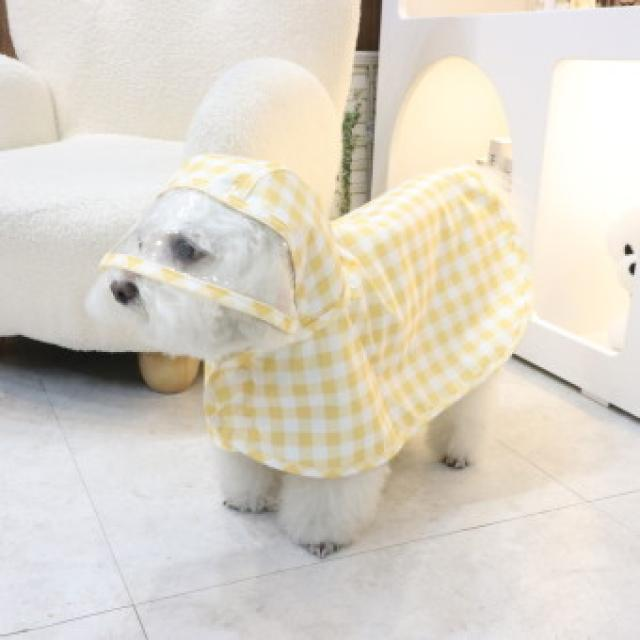cloth: (105, 154, 532, 476)
